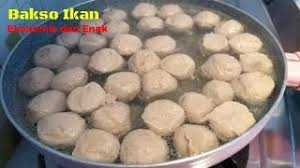bakso: (12, 4, 268, 162)
